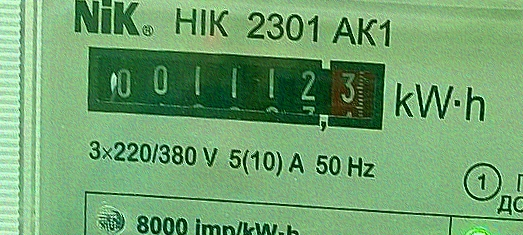0: (148, 60, 173, 100), (112, 64, 137, 101)
1: (187, 61, 208, 100), (225, 63, 242, 102), (263, 64, 280, 102)
2: (296, 67, 321, 105)
3: (337, 70, 358, 106)
screen: (76, 34, 395, 142)
